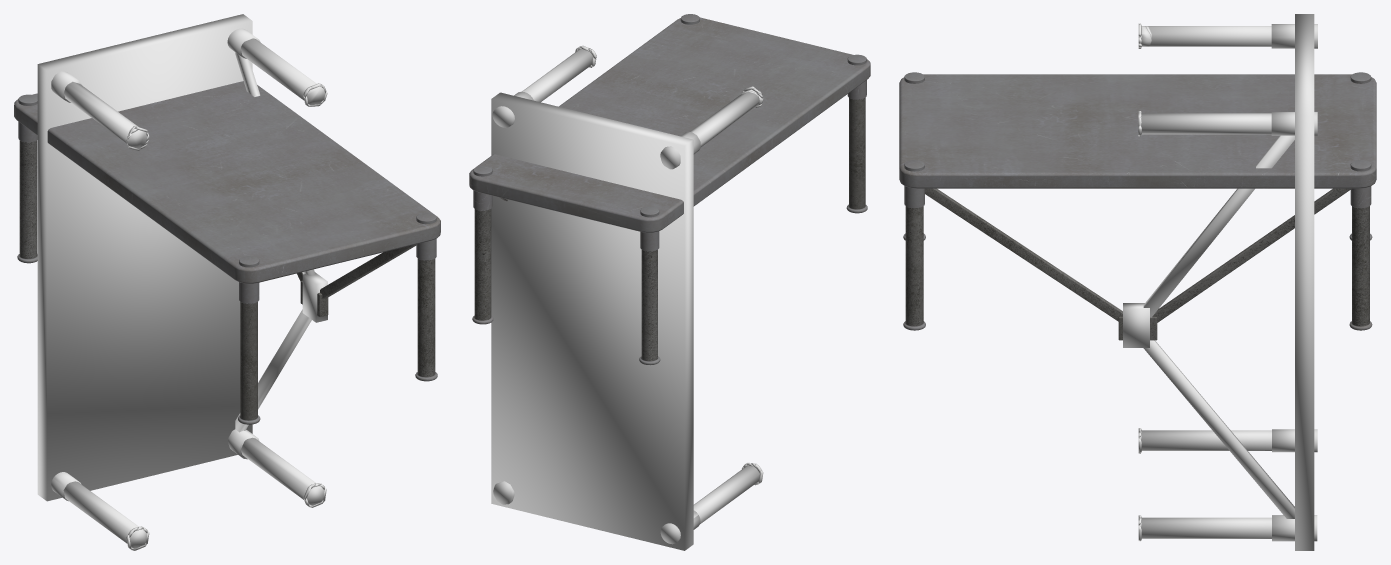
File: SM_Modular_Shelves.fbx
The picture shows the model from 3 angles, left to right: view 1: azimuth 30°, elevation 25°; view 2: azimuth 150°, elevation 25°; view 3: azimuth 270°, elevation 25°; orthographic projection. The views are drawn at different scales.
Parts seen in each view (by area): view 1: SM_Modular_Shelves_ConvexHulls, SM_Modular_Shelves; view 2: SM_Modular_Shelves_ConvexHulls, SM_Modular_Shelves; view 3: SM_Modular_Shelves, SM_Modular_Shelves_ConvexHulls.
Boxes of the visible parts, bbox=[...] form: SM_Modular_Shelves_ConvexHulls: bbox=[37, 14, 327, 550]; SM_Modular_Shelves: bbox=[14, 81, 440, 424]; SM_Modular_Shelves_ConvexHulls: bbox=[491, 45, 763, 550]; SM_Modular_Shelves: bbox=[469, 14, 870, 365]; SM_Modular_Shelves: bbox=[899, 72, 1376, 340]; SM_Modular_Shelves_ConvexHulls: bbox=[1123, 14, 1317, 550].
Size of the model in its own units: 2.01 by 4.03 by 4.
